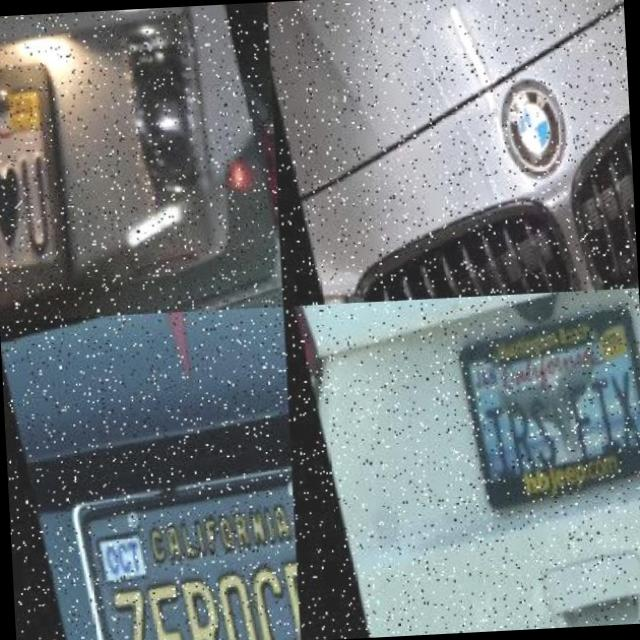LicensePlate: (53, 424, 301, 640), (444, 288, 640, 518), (0, 32, 139, 320)
